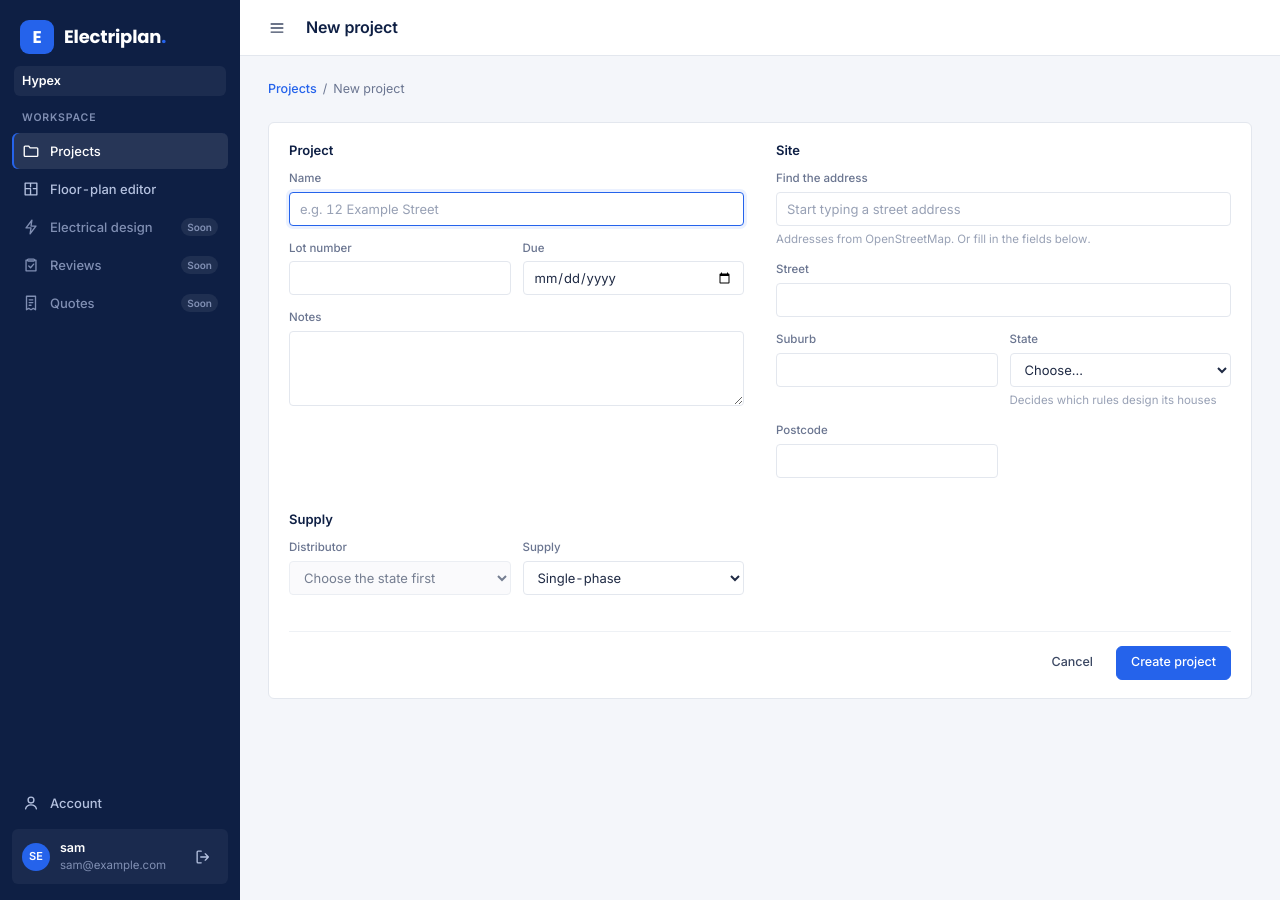
Test: NewProject › shows each field error the API gives beside its field
Click the button "Create project" at (1174, 662), box [1116,646,1231,680]
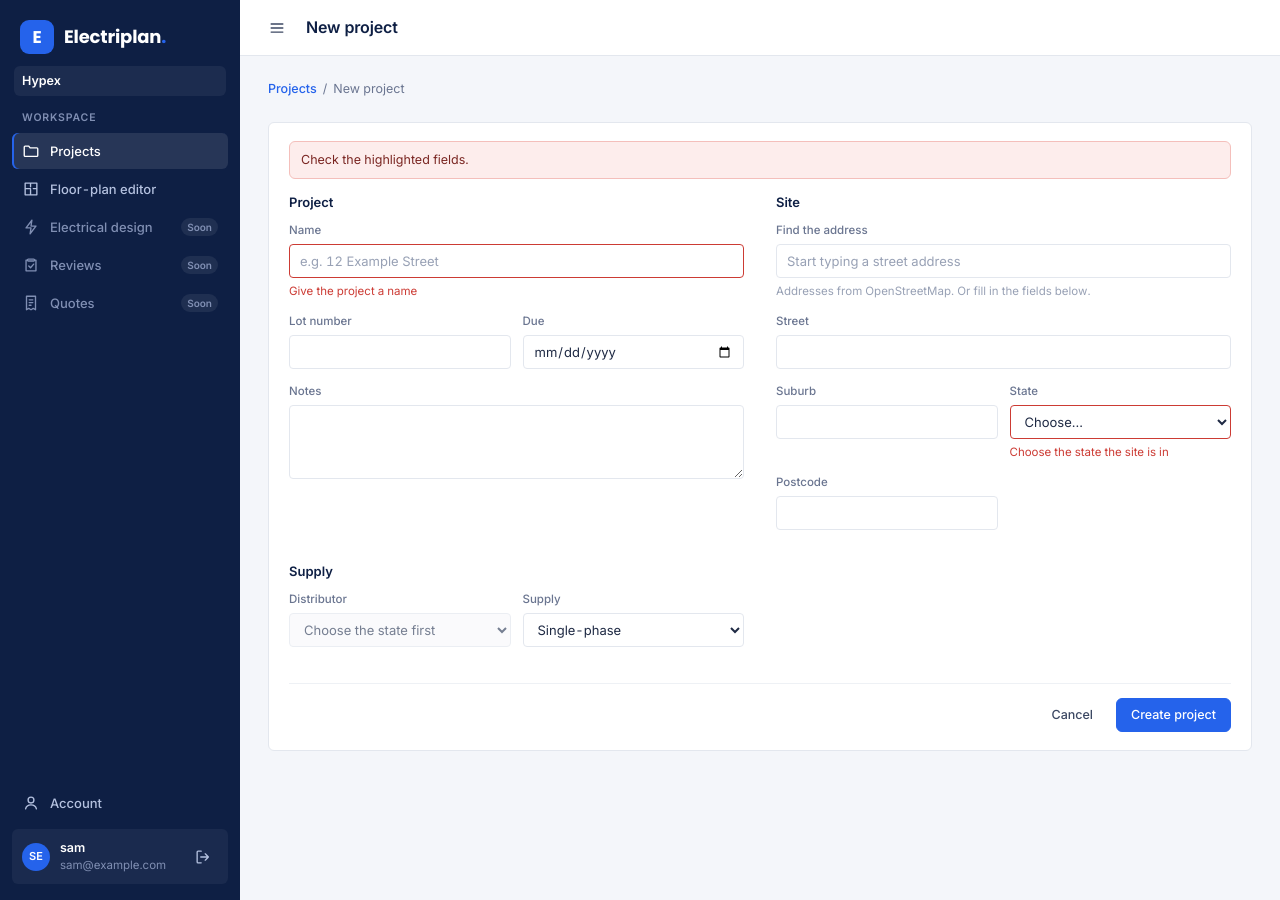
Result: the message reads "Check the highlighted fields." at [301,152,469,167]
Result: the text "Give the project a name" is shown at [289,284,417,298]
Result: the text "Choose the state the site is in" is shown at [1010,445,1169,459]
